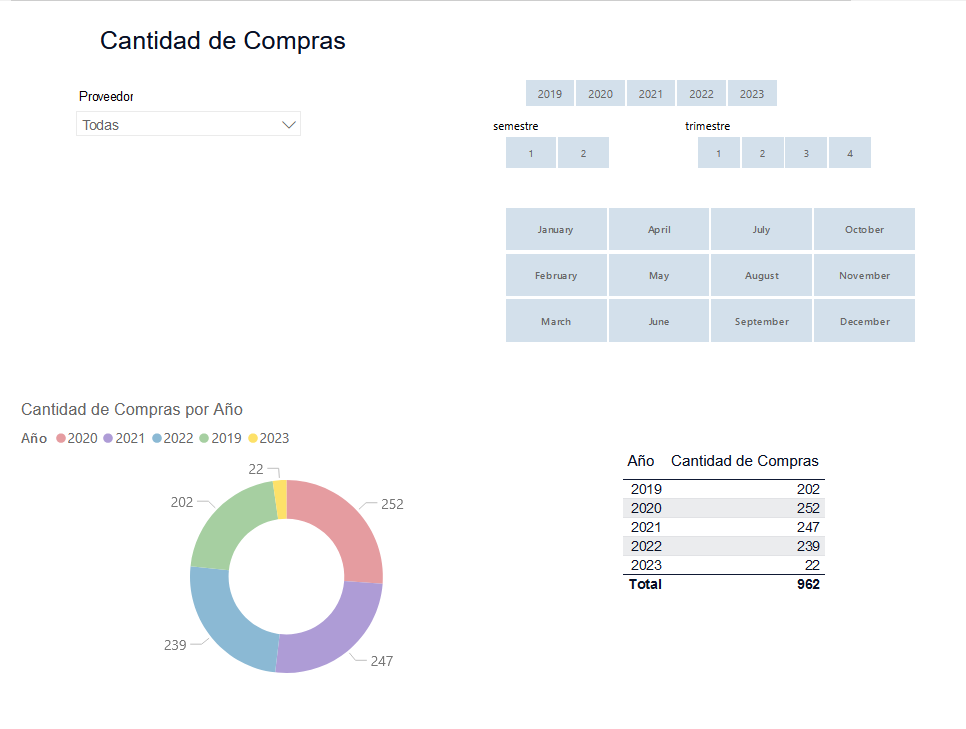

What the dashboard file says about the page in this screenshot:
{"tool":"powerbi","page":{"name":"Cantidad Compras","canvas":[1000,800],"ordinal":4},"visuals":[{"type":"tableEx","fields":{"Values":["dimdate.year","factordencompra.Total acumulado de Recuento de orden_key en orden_key"]},"box":[633.9,468.8,264.6,203.2],"z":0},{"type":"slicer","fields":{"Values":["dimdate.year"]},"box":[511.3,76.3,314.4,42.3],"z":1000},{"type":"slicer","fields":{"Values":["dimdate.semestre"]},"box":[489.7,118.6,158.8,64.9],"z":2000},{"type":"slicer","fields":{"Values":["dimdate.trimestre"]},"box":[692.8,118.6,233,64.9],"z":3000},{"type":"slicer","fields":{"Values":["dimdate.fecha.Variación.Date Hierarchy.Month"]},"box":[489.6,211.2,481.6,155.2],"z":4000},{"type":"donutChart","title":"Cantidad de Compras por Año","fields":{"Category":["dimdate.year"],"Y":["factordencompra.CantidadCompras"]},"box":[0,419.2,569.6,323.2],"z":5000},{"type":"slicer","fields":{"Values":["dimsupplier.supplier_name"]},"box":[54,87.8,257.1,81.5],"z":6000},{"type":"textbox","box":[53.6,20.6,336.1,55.7],"z":7000}]}

Visuals, with their boxes on the page's 1000x800 design canvas (x1, y1, x2, y2). These are canvas units, not pixel positions in the 966x729 screenshot, which may show the page scaled, cropped or inside an application window:
tableEx - dimdate.year x factordencompra.Total acumulado de Recuento de orden_key en orden_key: [634, 469, 898, 672]
slicer - dimdate.year: [511, 76, 826, 119]
slicer - dimdate.semestre: [490, 119, 648, 184]
slicer - dimdate.trimestre: [693, 119, 926, 184]
slicer - dimdate.fecha.Variación.Date Hierarchy.Month: [490, 211, 971, 366]
"Cantidad de Compras por Año" donutChart: [0, 419, 570, 742]
slicer - dimsupplier.supplier_name: [54, 88, 311, 169]
textbox: [54, 21, 390, 76]
